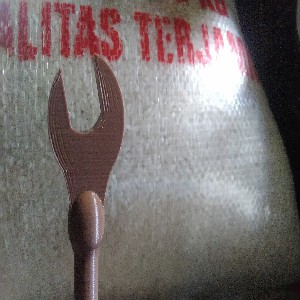spanner: (46, 52, 124, 300)
